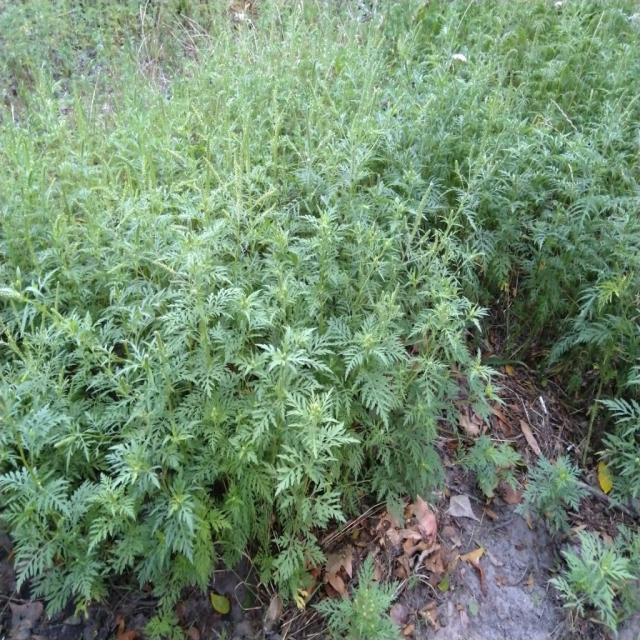ambrosia: (0, 99, 299, 465), (315, 10, 618, 250), (264, 252, 470, 451), (6, 468, 208, 598), (328, 561, 396, 640), (529, 459, 574, 535)
